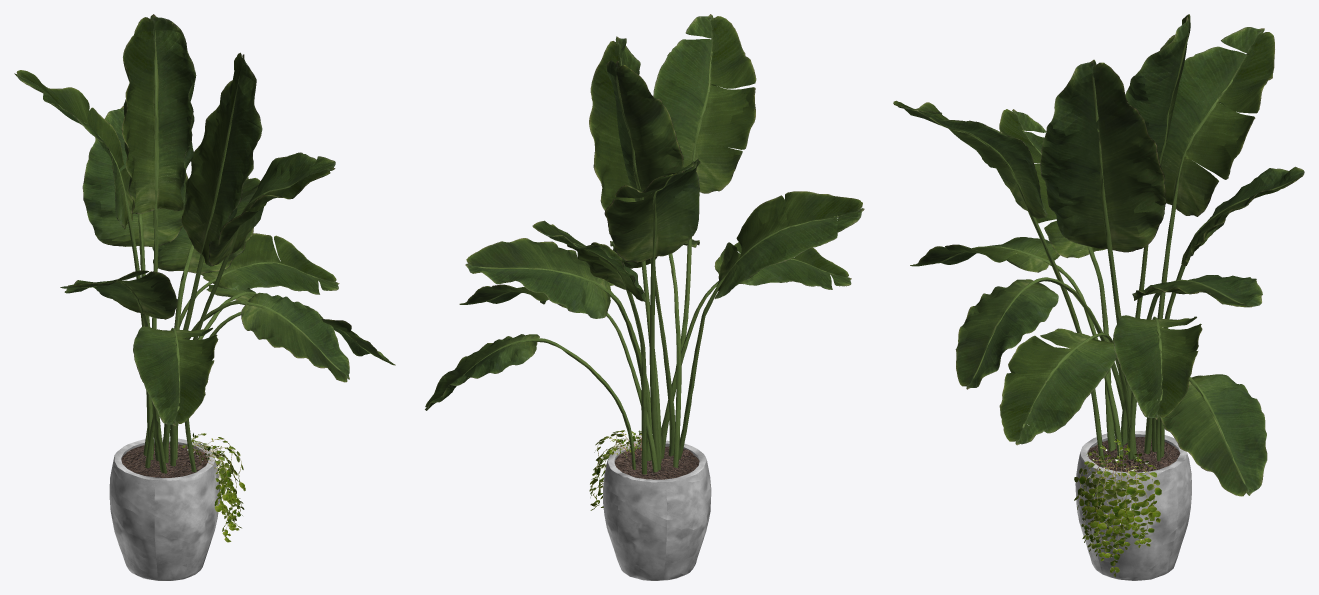
Rendered from planter.glb.
3 renders of one model, left to right at view 1: azimuth 30°, elevation 25°; view 2: azimuth 150°, elevation 25°; view 3: azimuth 270°, elevation 25°, orthographic. The views are drawn at different scales.
Visible parts, largest first — view 1: Box309 [32309604].001_LOD1; view 2: Box309 [32309604].001_LOD1; view 3: Box309 [32309604].001_LOD1.
Part boxes in pixels (box(x1,y1,x2,y2)): Box309 [32309604].001_LOD1: box(14, 14, 395, 580); Box309 [32309604].001_LOD1: box(425, 14, 864, 580); Box309 [32309604].001_LOD1: box(893, 14, 1304, 580).
Size of the model in its own units: 1.54 by 2.29 by 1.53.
6 materials, 6 textured.
